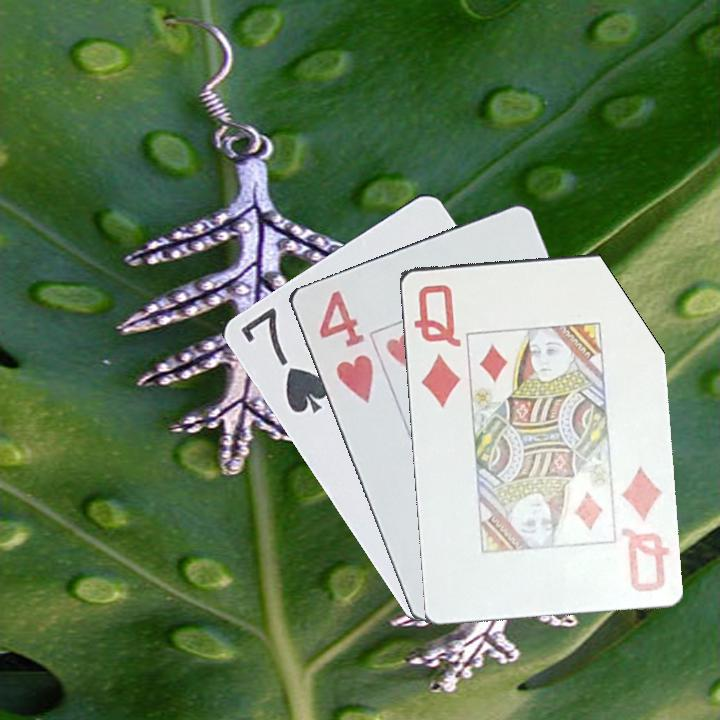4h: (312, 286, 376, 407)
7s: (236, 303, 331, 417)
Qd: (616, 464, 672, 594), (409, 280, 464, 410)
